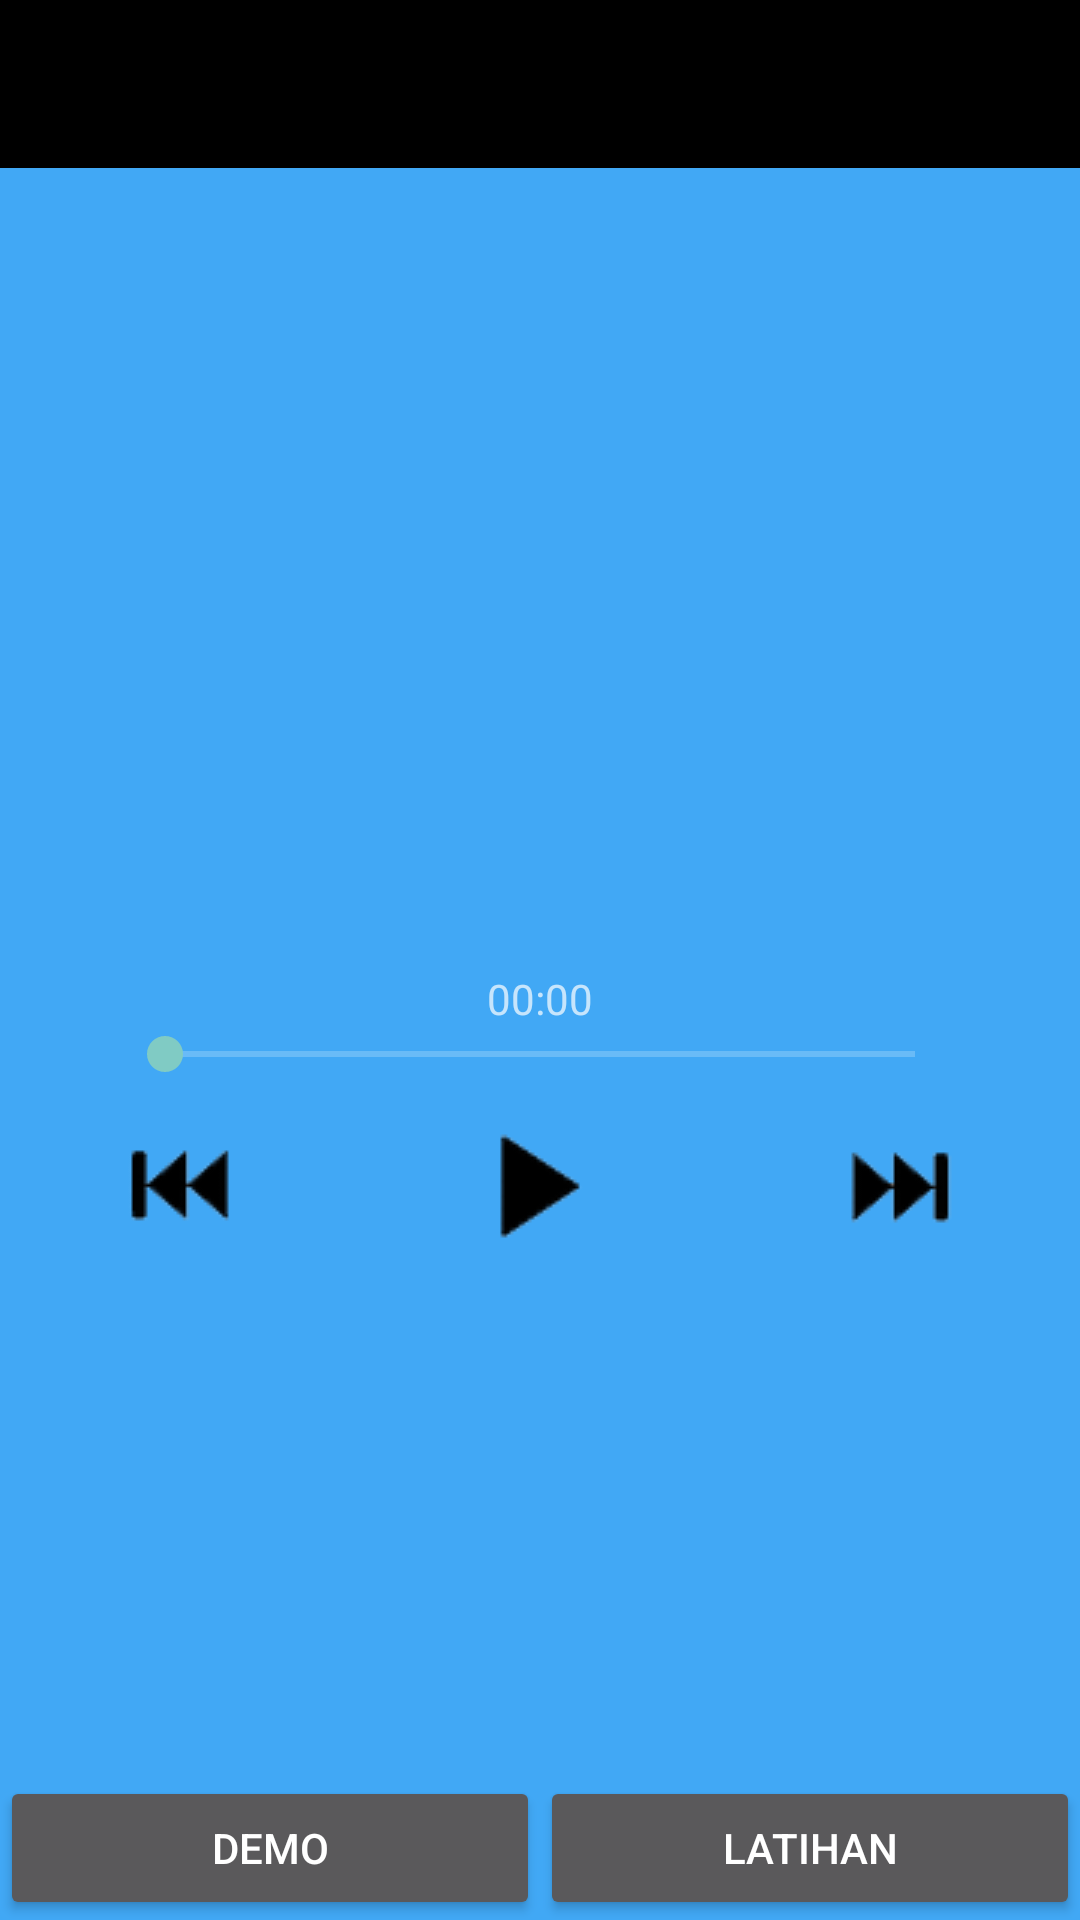

Point at icon controls on the screen. Image size 1080px x 1920px, points as point (x, y).
nextbutton: point (900, 1187)
playbutton: point (540, 1186)
prevbutton: point (180, 1185)
